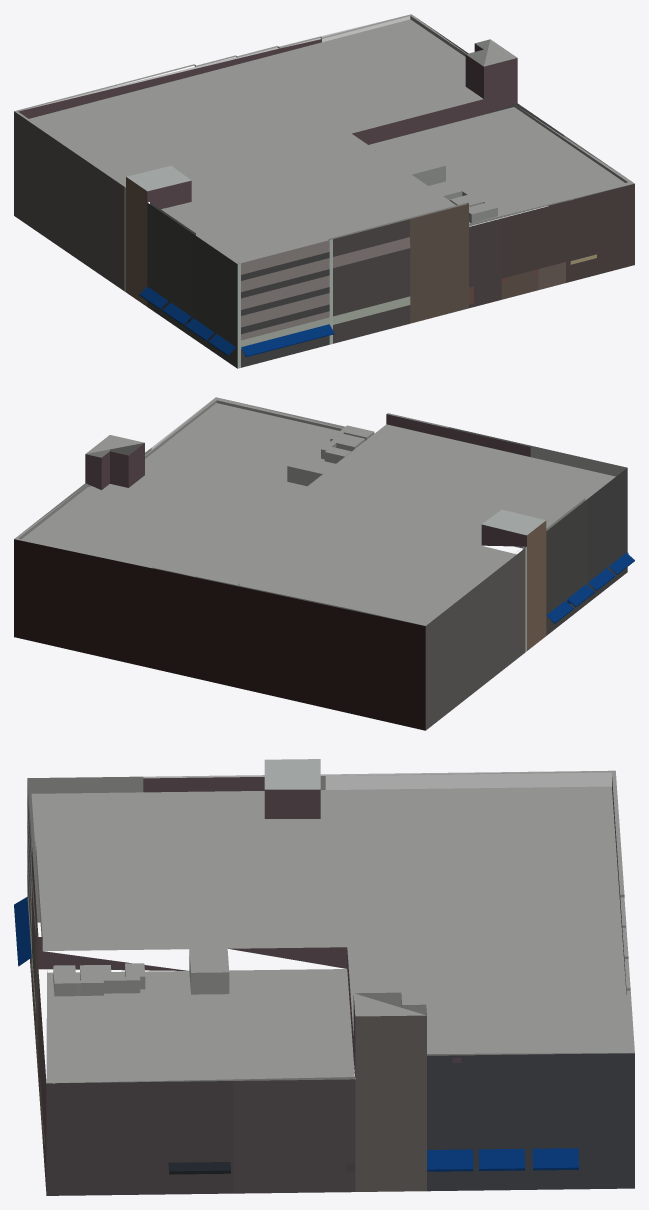
The model's file is 600-broad-street.glb.
The picture shows the model from 3 angles, top to bottom: view 1: azimuth 30°, elevation 25°; view 2: azimuth 150°, elevation 25°; view 3: azimuth 270°, elevation 25°; orthographic projection. The views are drawn at different scales.
Visible parts, largest first — view 1: LOD0; view 2: LOD0; view 3: LOD0.
Part boxes in pixels (x1,y1,x2,y2): LOD0: (14,14,634,368); LOD0: (14,397,634,730); LOD0: (14,759,634,1195).
Size of what is drawn, in the model's own units: 77.14 by 21.87 by 70.09.
2 materials, 2 textured.
